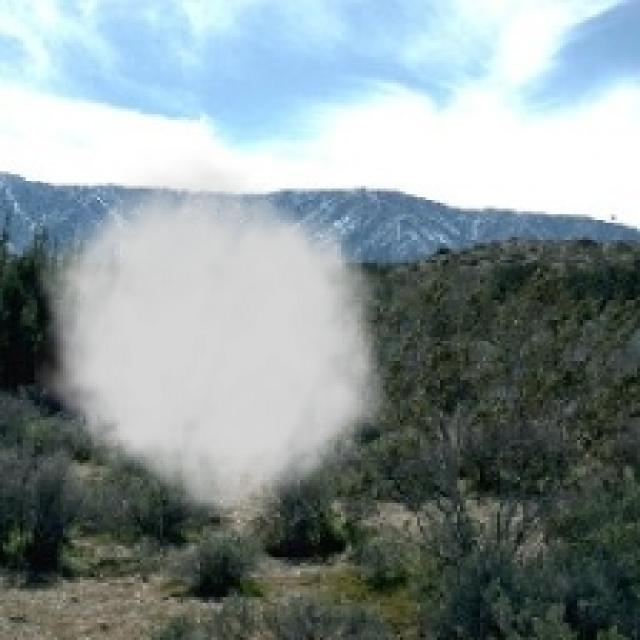Smoke: (34, 148, 403, 528)
